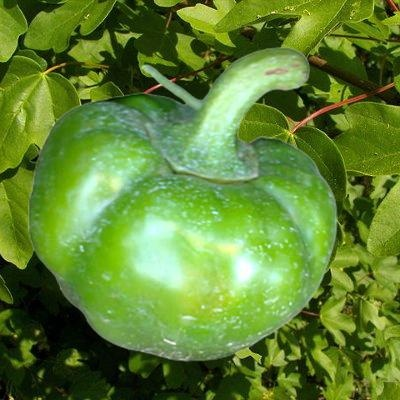bell_pepper: (28, 46, 336, 360)
